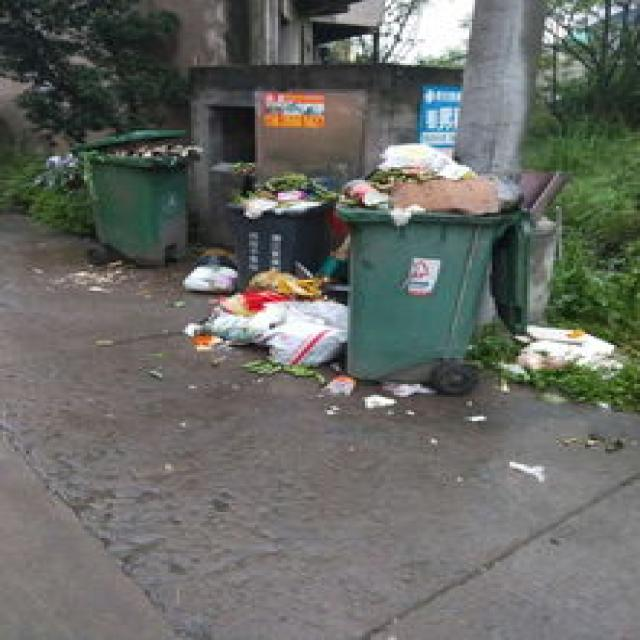garbage: (176, 260, 428, 406), (504, 321, 620, 371)
overflow: (330, 141, 498, 380), (69, 126, 197, 265), (226, 171, 327, 291)
